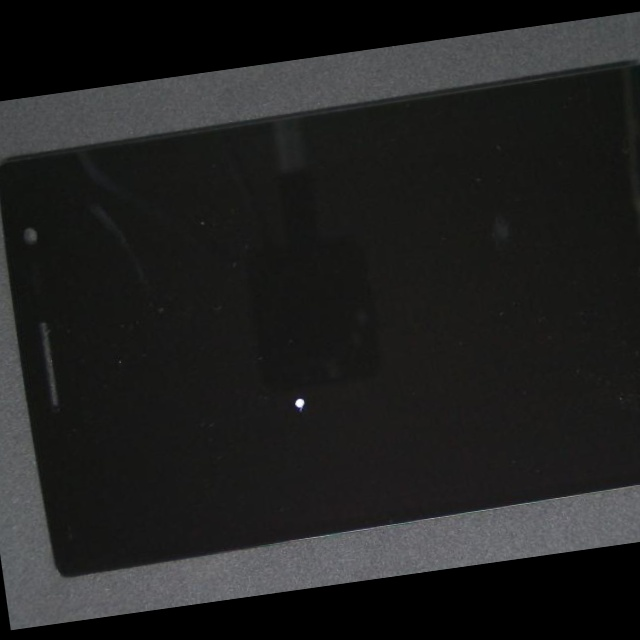stain: (113, 236, 457, 609)
